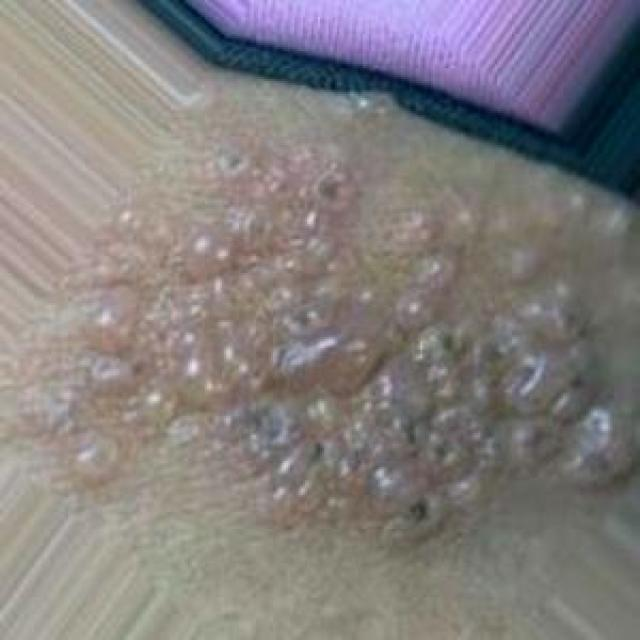Shingles: (64, 161, 640, 542)
